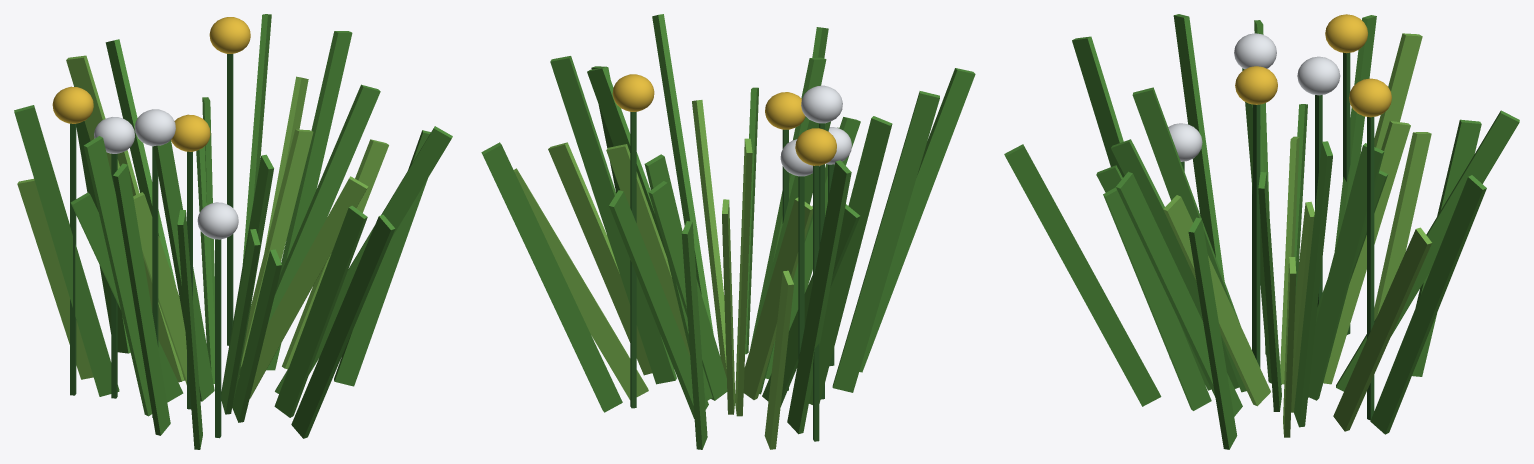
File: buisson_prairie_1.glb
3 renders of one model, left to right at view 1: azimuth 30°, elevation 25°; view 2: azimuth 150°, elevation 25°; view 3: azimuth 270°, elevation 25°, orthographic. The views are drawn at different scales.
Visible parts, largest first — view 1: herbe_feuille.002, herbe_feuille_claire.004, herbe_feuille_sombre.002, herbe_jaune.002, herbe_blanc.002; view 2: herbe_feuille.002, herbe_feuille_claire.004, herbe_feuille_sombre.002, herbe_jaune.002, herbe_blanc.002; view 3: herbe_feuille.002, herbe_feuille_claire.004, herbe_feuille_sombre.002, herbe_jaune.002, herbe_blanc.002.
Part boxes in pixels (left/top/right/bottom): herbe_feuille.002: left=14, top=14, right=452, bottom=449; herbe_feuille_claire.004: left=17, top=55, right=388, bottom=398; herbe_feuille_sombre.002: left=70, top=54, right=233, bottom=438; herbe_jaune.002: left=52, top=17, right=250, bottom=151; herbe_blanc.002: left=94, top=109, right=238, bottom=239; herbe_feuille.002: left=481, top=14, right=975, bottom=449; herbe_feuille_claire.004: left=513, top=100, right=812, bottom=449; herbe_feuille_sombre.002: left=630, top=111, right=834, bottom=441; herbe_jaune.002: left=612, top=74, right=836, bottom=165; herbe_blanc.002: left=780, top=85, right=851, bottom=176; herbe_feuille.002: left=1004, top=14, right=1519, bottom=449; herbe_feuille_claire.004: left=1163, top=33, right=1431, bottom=437; herbe_feuille_sombre.002: left=1181, top=52, right=1374, bottom=420; herbe_jaune.002: left=1235, top=14, right=1391, bottom=117; herbe_blanc.002: left=1168, top=33, right=1340, bottom=161.
Bounding box in the file's own units: 0.6664 × 0.6153 × 0.8387.
